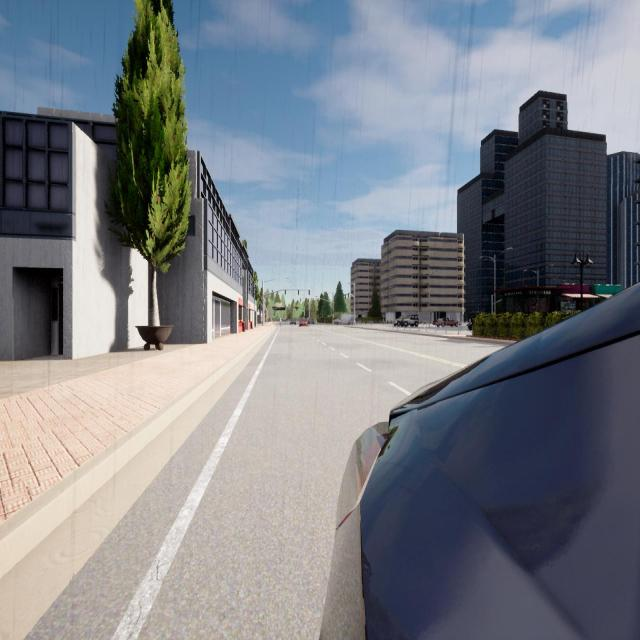Vehicle: (321, 284, 639, 638), (394, 315, 418, 327), (335, 315, 354, 325), (437, 318, 458, 327), (468, 316, 473, 330), (300, 319, 308, 326), (290, 319, 296, 325), (310, 320, 317, 324)
traffic_light: (332, 310, 334, 314), (285, 290, 286, 295), (298, 290, 299, 295), (309, 290, 310, 295), (348, 293, 349, 298), (300, 298, 301, 302), (308, 298, 309, 302), (345, 294, 346, 298), (318, 299, 318, 302)
